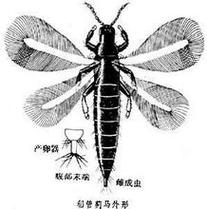Phlaeothripidae: (4, 2, 207, 194)
